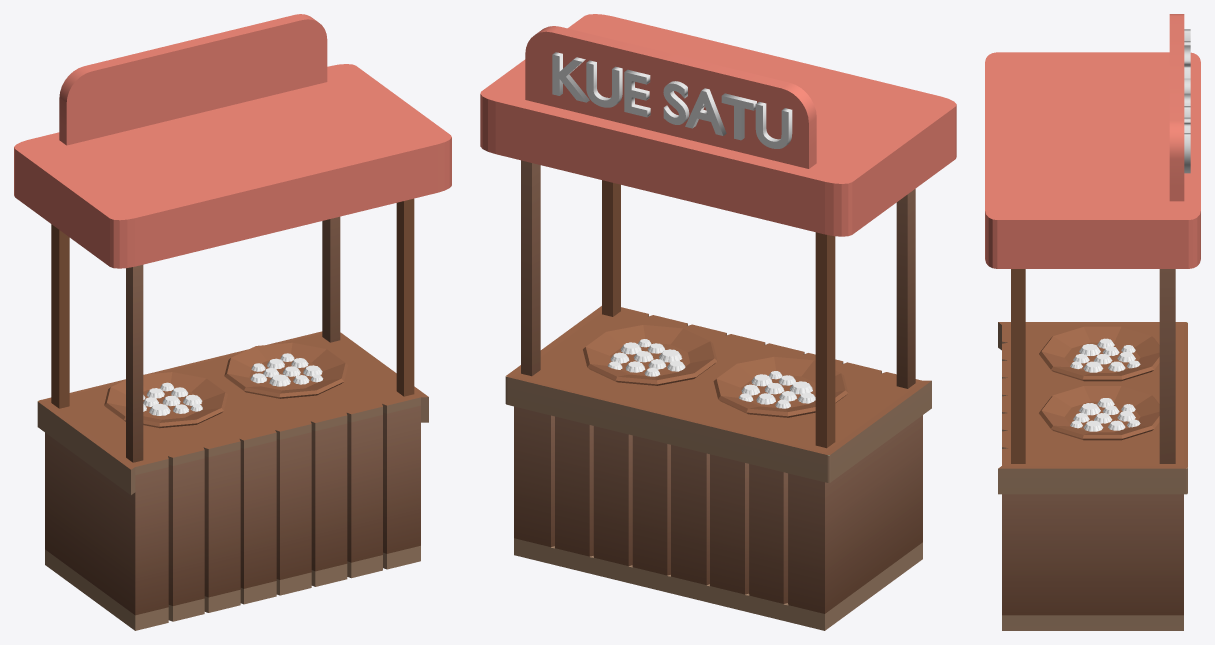
File: Tenant Kue Satu .fbx
The picture shows the model from 3 angles, left to right: view 1: azimuth 30°, elevation 25°; view 2: azimuth 150°, elevation 25°; view 3: azimuth 270°, elevation 25°; orthographic projection. The views are drawn at different scales.
Visible parts, largest first — view 1: Cube.058, Cube.066, Cube.004, Cylinder.023, Cube.062, Cube.063, Cylinder.002, Cube.065, Cube.064; view 2: Cube.058, Cube.066, Cube.004, Text.004, Cylinder.023, Cube.065, Cube.064, Cylinder.002, Cube.063, Cube.062; view 3: Cube.066, Cube.058, Cylinder.002, Cylinder.023, Cube.064, Cube.004, Cube.062, Text.004.
Part boxes in pixels (x1=…): Cube.058: x1=37, y1=331, x2=428, y2=630; Cube.066: x1=14, y1=64, x2=451, y2=268; Cube.004: x1=59, y1=14, x2=327, y2=145; Cylinder.023: x1=224, y1=342, x2=348, y2=398; Cube.062: x1=396, y1=198, x2=414, y2=396; Cube.063: x1=126, y1=265, x2=143, y2=462; Cylinder.002: x1=104, y1=372, x2=227, y2=428; Cube.065: x1=51, y1=224, x2=69, y2=408; Cube.064: x1=322, y1=216, x2=340, y2=342; Cube.058: x1=505, y1=306, x2=931, y2=630; Cube.066: x1=480, y1=14, x2=956, y2=236; Cube.004: x1=525, y1=26, x2=816, y2=168; Text.004: x1=552, y1=52, x2=792, y2=148; Cylinder.023: x1=583, y1=325, x2=717, y2=385; Cube.065: x1=815, y1=232, x2=835, y2=448; Cube.064: x1=521, y1=160, x2=540, y2=376; Cylinder.002: x1=713, y1=356, x2=848, y2=417; Cube.063: x1=896, y1=189, x2=915, y2=388; Cube.062: x1=602, y1=180, x2=620, y2=316; Cube.066: x1=985, y1=52, x2=1200, y2=268; Cube.058: x1=998, y1=322, x2=1187, y2=630; Cylinder.002: x1=1039, y1=326, x2=1159, y2=381; Cylinder.023: x1=1039, y1=386, x2=1159, y2=440; Cube.064: x1=1159, y1=269, x2=1175, y2=463; Cube.004: x1=1169, y1=14, x2=1184, y2=201; Cube.062: x1=1011, y1=269, x2=1025, y2=463; Text.004: x1=1184, y1=29, x2=1190, y2=173.
Bounding box in the file's own units: 478 × 656 × 260.
